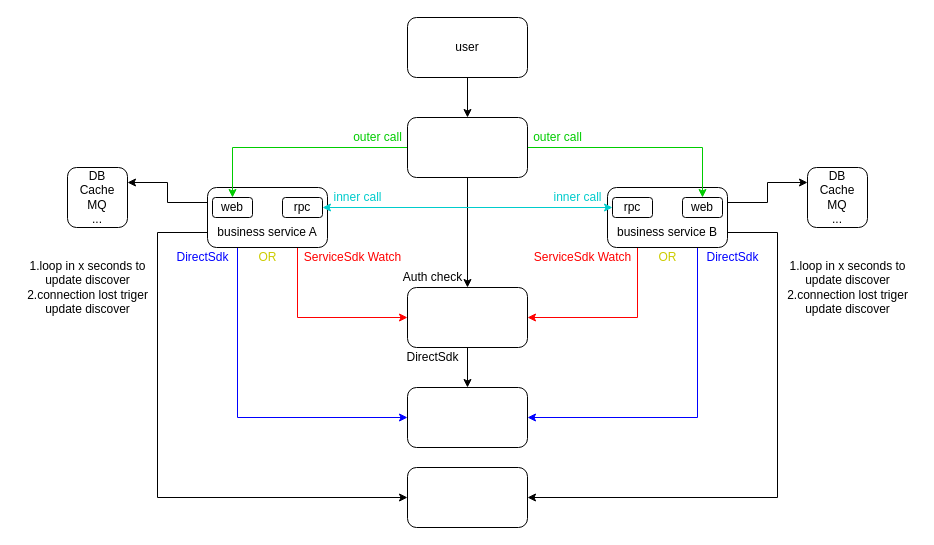
The diagram is 934 pixels wide and 545 high, and some of its shapes have lost their labels. The shapes that lost their labels are listed below. From the top down, each one's centre as x and y in pixels, then its label:
At pixel 467 147: "nginx ingress".
At pixel 467 317: "config".
At pixel 467 417: "Mongodb (must in replicaset mode)".
At pixel 467 497: "k8s core dns".
